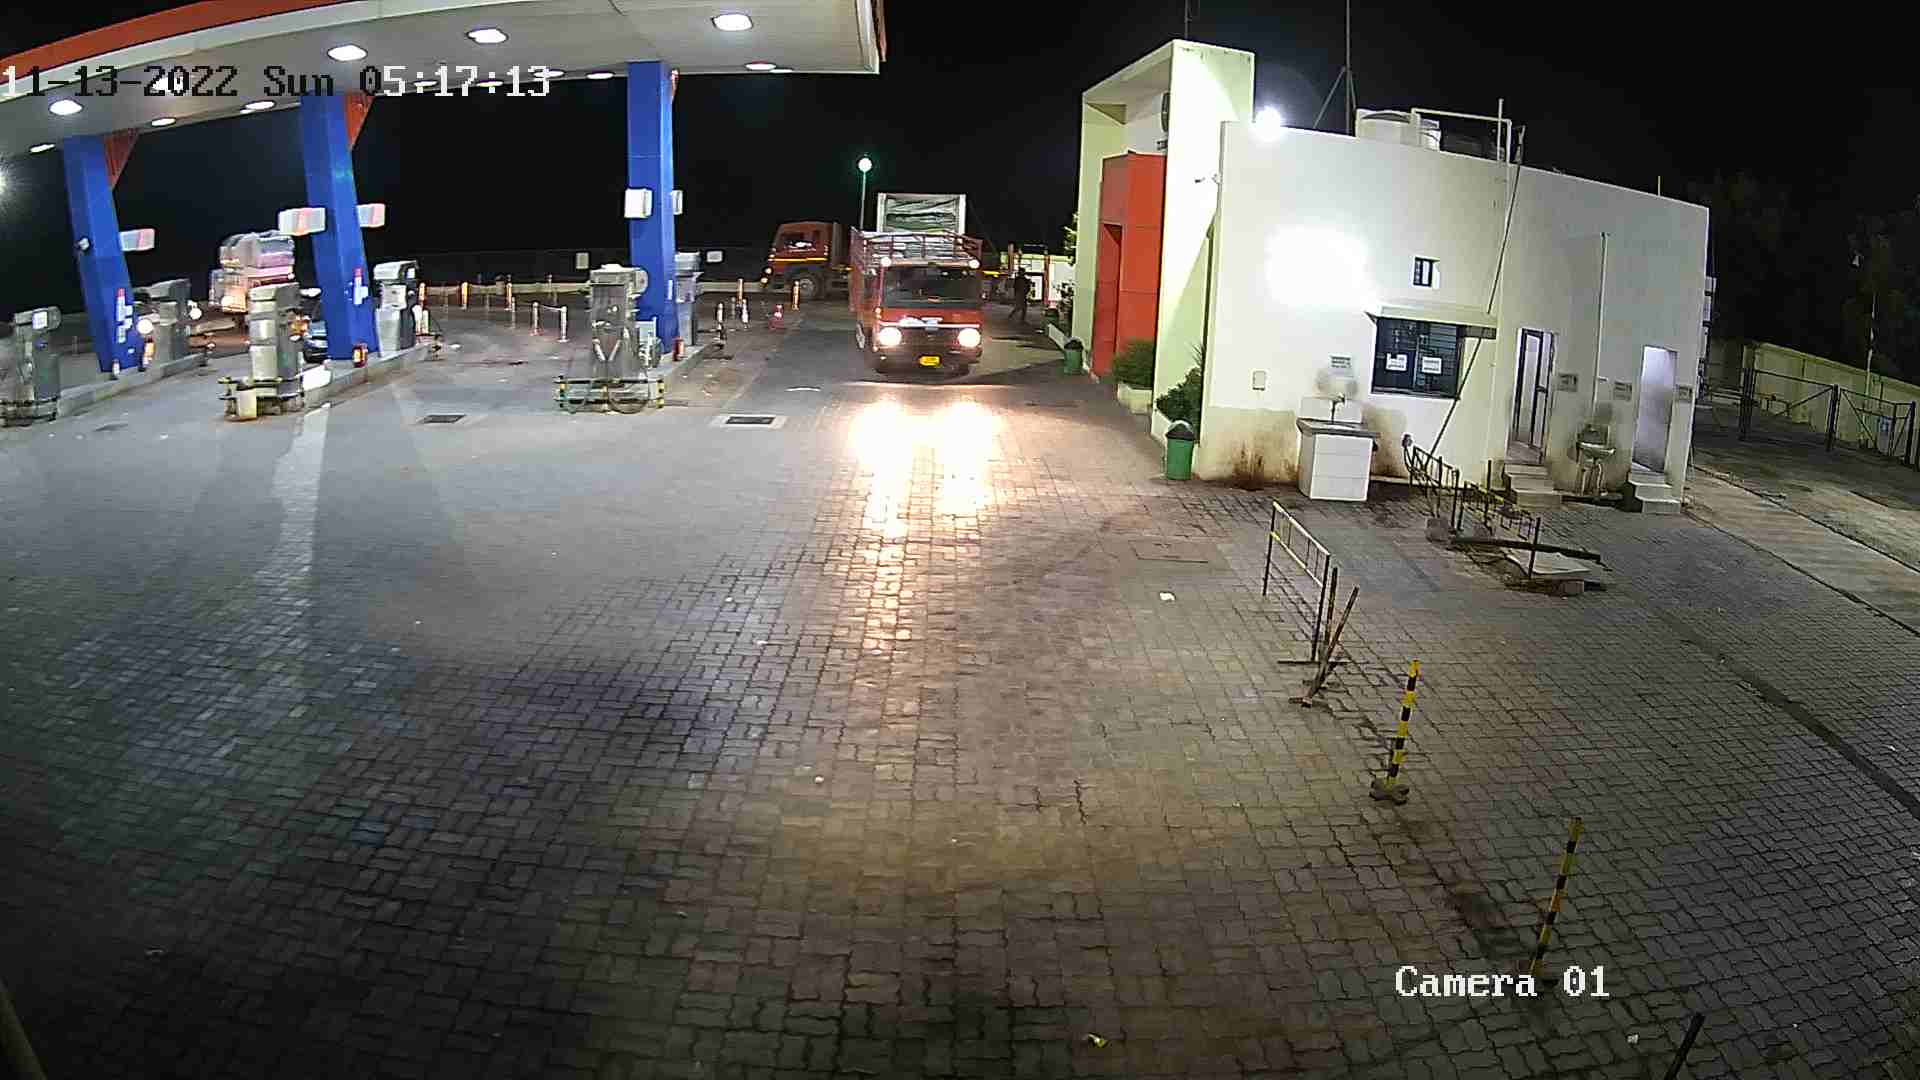Car: (195, 220, 305, 328), (123, 274, 204, 330), (295, 278, 336, 367)
HMV: (754, 187, 1044, 306), (841, 215, 996, 386)
